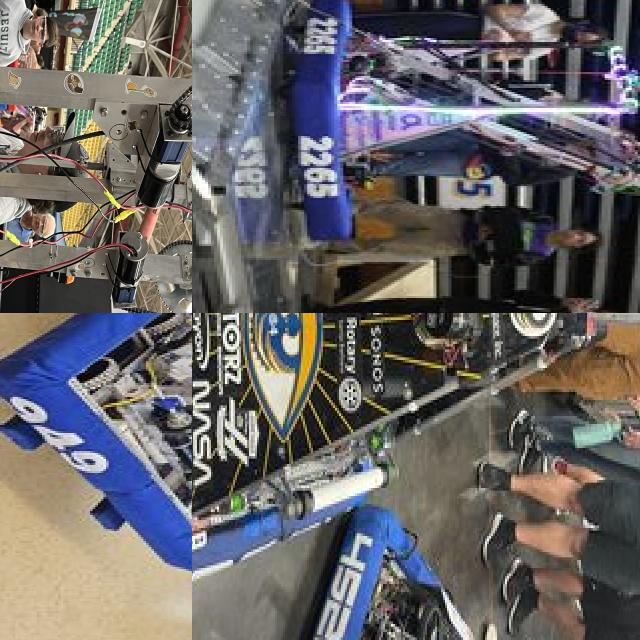FRC-Robots: (192, 313, 586, 592), (273, 0, 640, 253), (0, 0, 192, 313), (0, 313, 192, 602), (275, 513, 504, 640)
